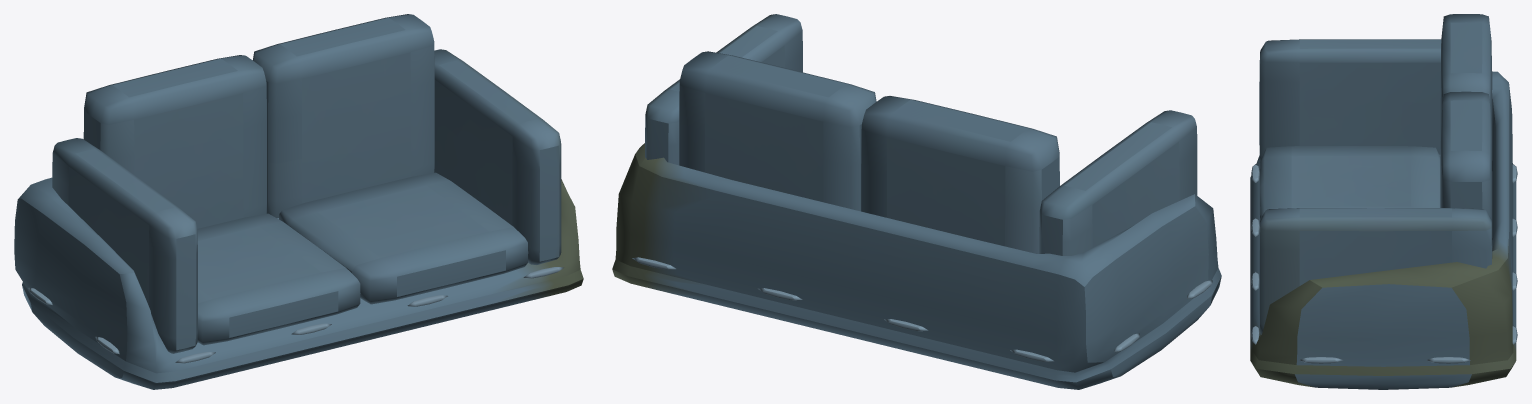
Rendered from Couch02_Grey.fbx.
3 renders of one model, left to right at view 1: azimuth 30°, elevation 25°; view 2: azimuth 150°, elevation 25°; view 3: azimuth 270°, elevation 25°, orthographic. The views are drawn at different scales.
Visible parts, largest first — view 1: Sofa_1; view 2: Sofa_1; view 3: Sofa_1.
Part boxes in pixels (x1,y1,x2,y2): Sofa_1: [14, 14, 583, 389]; Sofa_1: [612, 14, 1221, 389]; Sofa_1: [1250, 14, 1517, 389].
Bounding box in the file's own units: 177 × 77.7 × 92.75.
